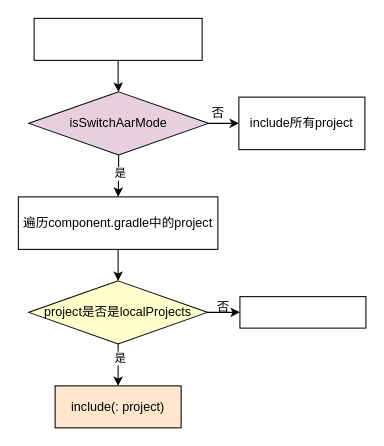
The diagram is 384 pixels wide and 446 high, and some of its shapes have lost their labels. The centre of each missing label's shape, as x and y in pixels:
"return" goes at [302,312].
"setting.gradle.autoInclude()" goes at [117,38].
